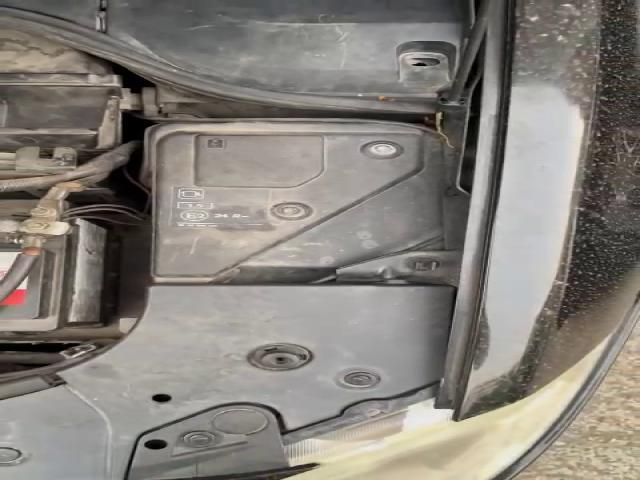accumulator: (2, 201, 124, 332)
fuse_box: (151, 118, 452, 284)
